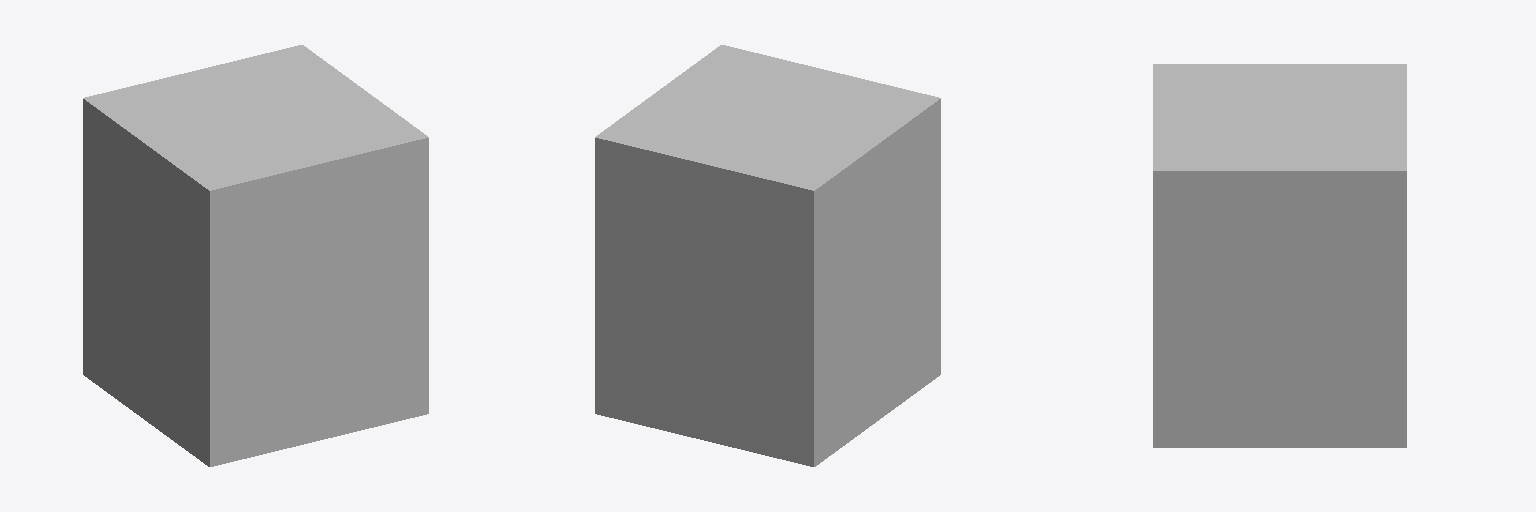
Rendered from dom_szescian.obj.
3 renders of one model, left to right at view 1: azimuth 30°, elevation 25°; view 2: azimuth 150°, elevation 25°; view 3: azimuth 270°, elevation 25°, orthographic.
Visible parts, largest first — view 1: Cube; view 2: Cube; view 3: Cube.
Boxes of the visible parts, <box> form: Cube: <box>83,45,428,466</box>; Cube: <box>595,45,940,466</box>; Cube: <box>1153,64,1406,447</box>.
Bounding box in the file's own units: 2 × 2.4 × 2.